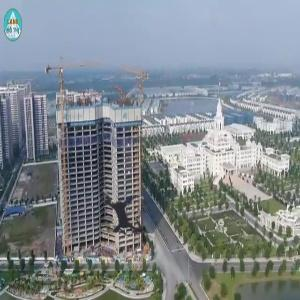drone: (75, 165, 179, 269)
